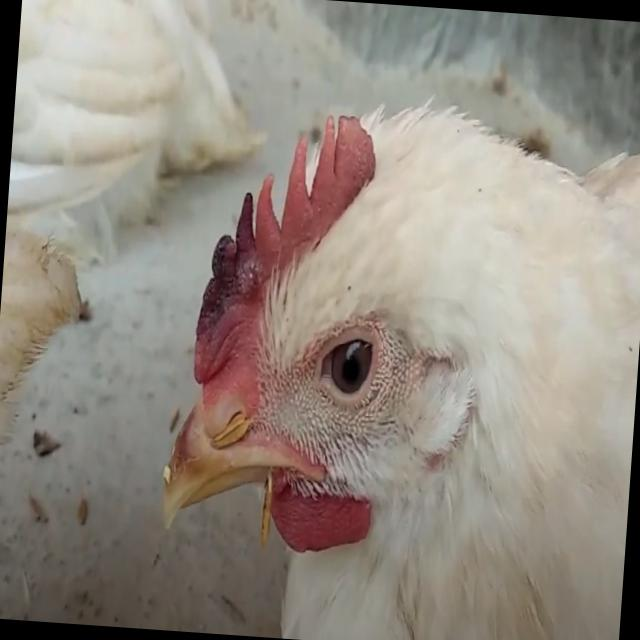Infectios bronchitis: (182, 100, 390, 376)
